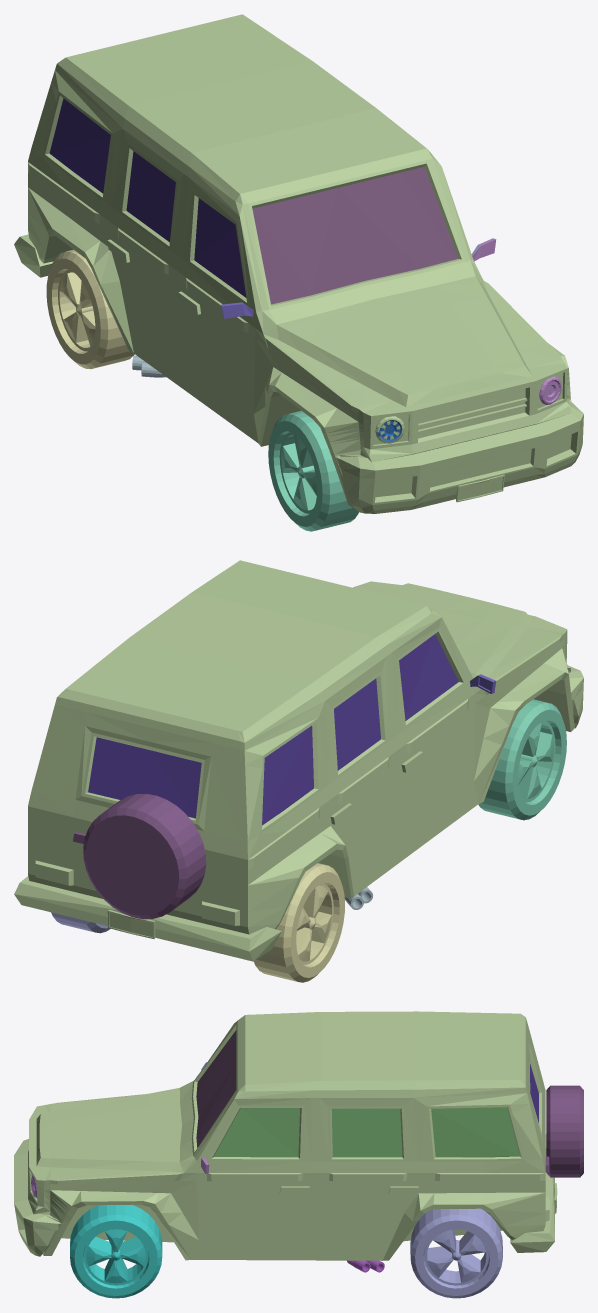
3 renders of one model, top to bottom at view 1: azimuth 30°, elevation 25°; view 2: azimuth 150°, elevation 25°; view 3: azimuth 270°, elevation 25°, orthographic. The views are drawn at different scales.
Visible parts, largest first — view 1: world; view 2: world; view 3: world.
Boxes of the visible parts, x1,y1,x2,y2 form: world: (14, 14, 583, 531); world: (14, 560, 583, 982); world: (14, 1011, 583, 1298).
Size of the model in its own units: 0.4268 by 0.4029 by 1.
